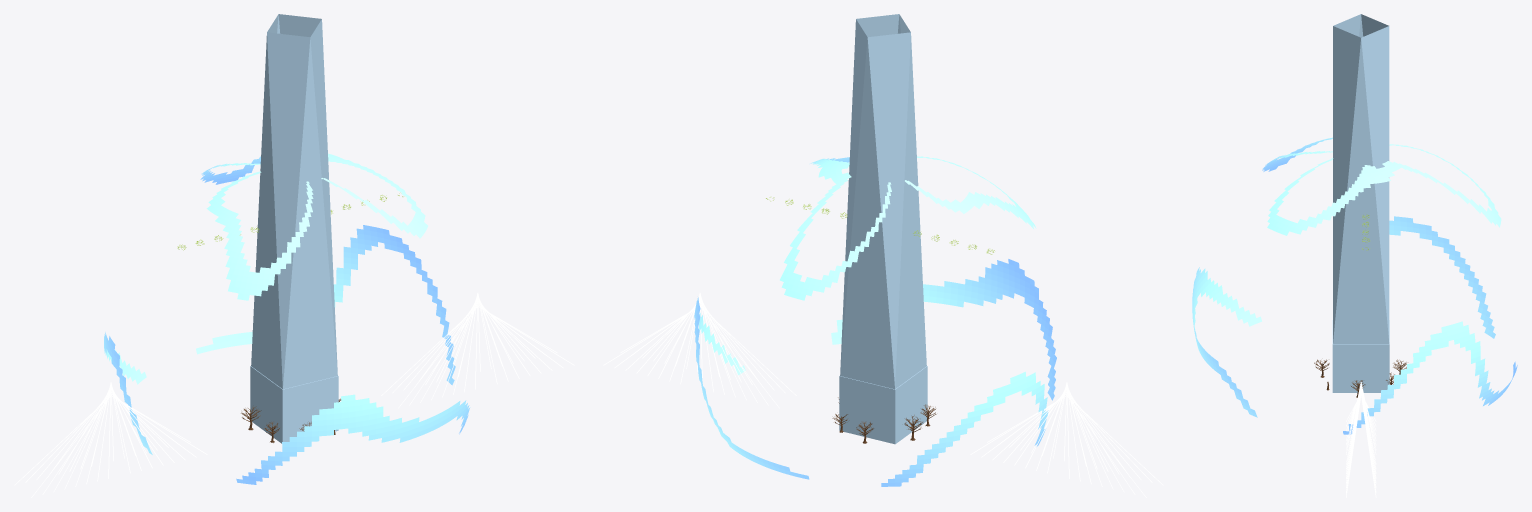
File: Catalog-42.glb
3 views of the same model, side by side, from view 1: azimuth 30°, elevation 25°; view 2: azimuth 150°, elevation 25°; view 3: azimuth 270°, elevation 25° (orthographic). The views are drawn at different scales.
Visible parts, largest first — view 1: Metropolis WTC Glass, Metropolis Sphere Screen 03, Metropolis White; view 2: Metropolis WTC Glass, Metropolis Sphere Screen 03, Metropolis White; view 3: Metropolis WTC Glass, Metropolis Sphere Screen 03, Metropolis White, Neris Ridged Chestnut Bark.
Part boxes in pixels (x1,y1,x2,y2): Metropolis WTC Glass: (250, 14, 338, 443); Metropolis Sphere Screen 03: (104, 153, 470, 484); Metropolis White: (14, 293, 574, 497); Metropolis WTC Glass: (839, 14, 927, 444); Metropolis Sphere Screen 03: (694, 156, 1056, 486); Metropolis White: (603, 293, 1163, 497); Metropolis WTC Glass: (1332, 14, 1389, 392); Metropolis Sphere Screen 03: (1192, 137, 1517, 434); Metropolis White: (1346, 382, 1376, 497); Neris Ridged Chestnut Bark: (1314, 359, 1406, 397).
Size of the model in its own units: 592 by 417 by 347.
